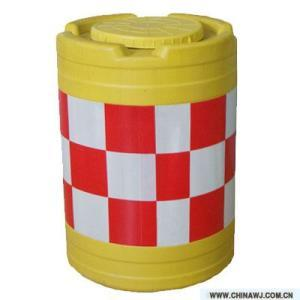sign: (48, 10, 248, 292)
